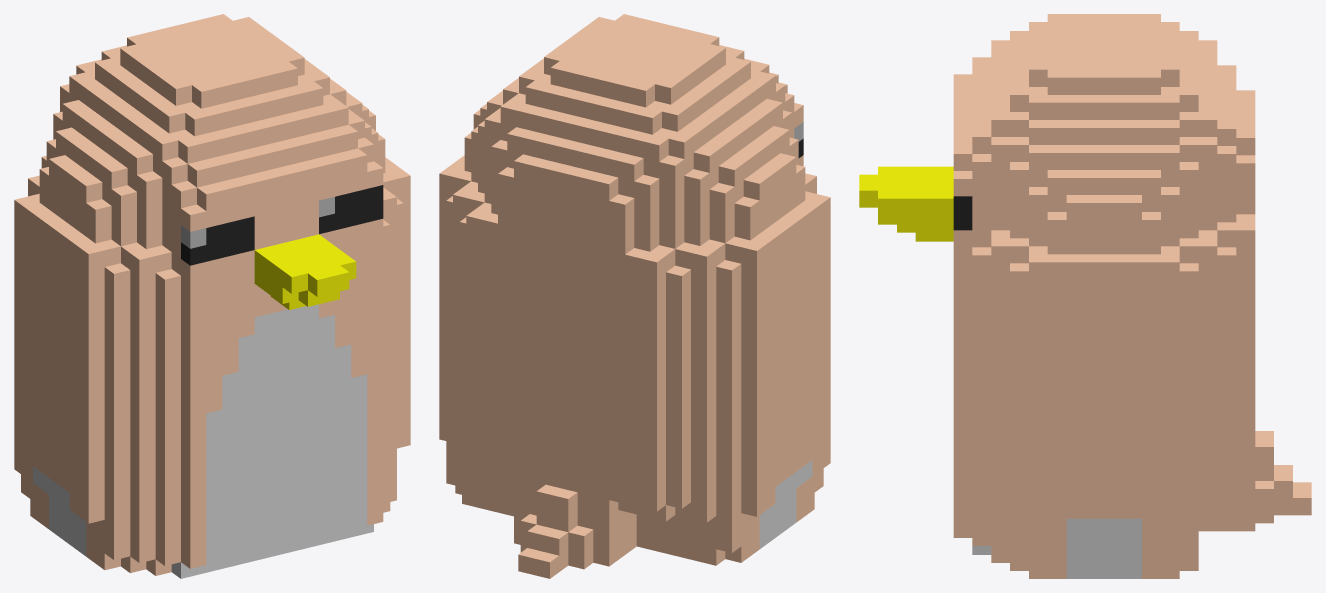
Rendered from penguin08_body.obj.
3 renders of one model, left to right at view 1: azimuth 30°, elevation 25°; view 2: azimuth 150°, elevation 25°; view 3: azimuth 270°, elevation 25°, orthographic. The views are drawn at different scales.
Size of the model in its own units: 2 by 2.7 by 2.4.
1 material, 1 textured.
